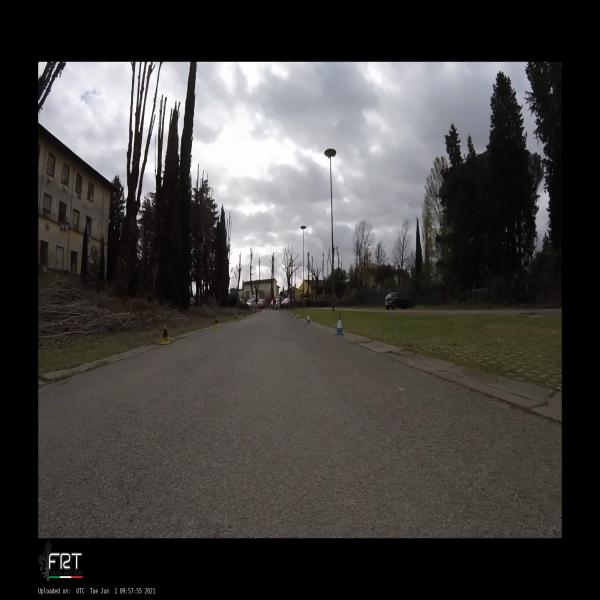blue_cone: (334, 314, 344, 335), (305, 312, 311, 324), (296, 312, 298, 318), (291, 312, 292, 316)
yellow_cone: (160, 323, 171, 344), (214, 316, 219, 327), (234, 314, 237, 321), (244, 313, 246, 318)
